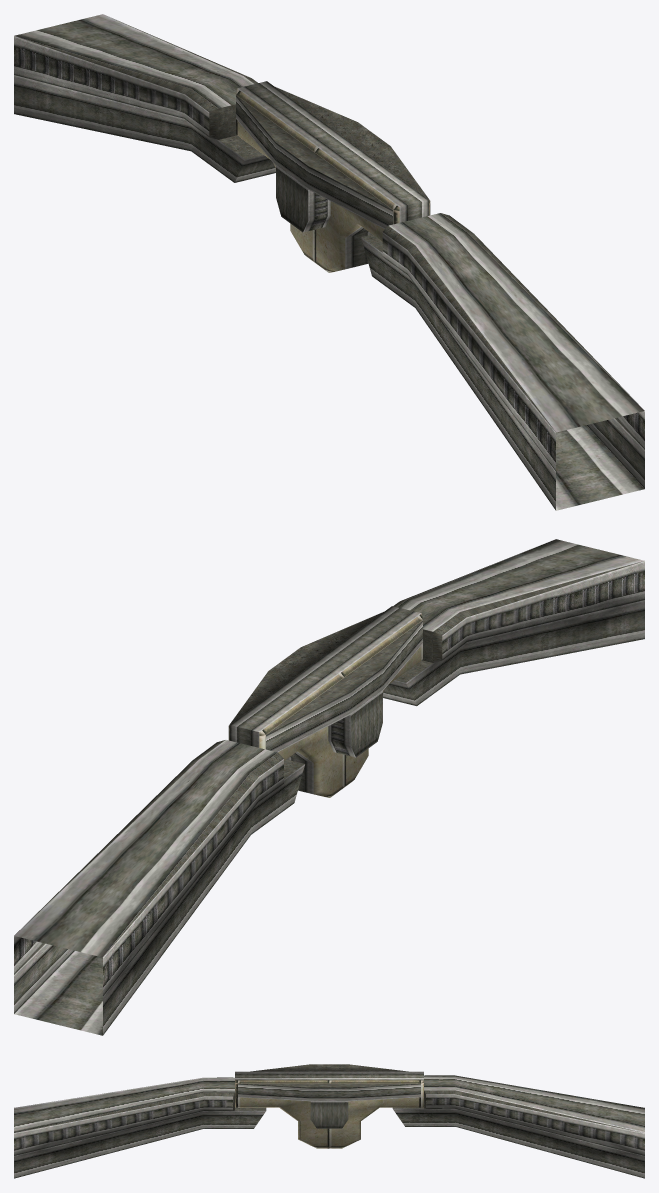
File: DWARF_PALACE_MAINHALL_COLUMN_DEBREE04.fbx
3 views of the same model, one above another, from view 1: azimuth 30°, elevation 25°; view 2: azimuth 150°, elevation 25°; view 3: azimuth 270°, elevation 25° (orthographic). The views are drawn at different scales.
Parts seen in each view (by area): view 1: DWARF_PALACE_MAINHALL_COLUMN_DEBREE04; view 2: DWARF_PALACE_MAINHALL_COLUMN_DEBREE04; view 3: DWARF_PALACE_MAINHALL_COLUMN_DEBREE04.
Part boxes in pixels (box(x1,y1,x2,y2)): DWARF_PALACE_MAINHALL_COLUMN_DEBREE04: box(14, 14, 644, 510); DWARF_PALACE_MAINHALL_COLUMN_DEBREE04: box(14, 539, 644, 1035); DWARF_PALACE_MAINHALL_COLUMN_DEBREE04: box(14, 1064, 644, 1178).
Size of the model in its own units: 23896 by 40000 by 251080.
Materials: 4 (4 with a texture image).
